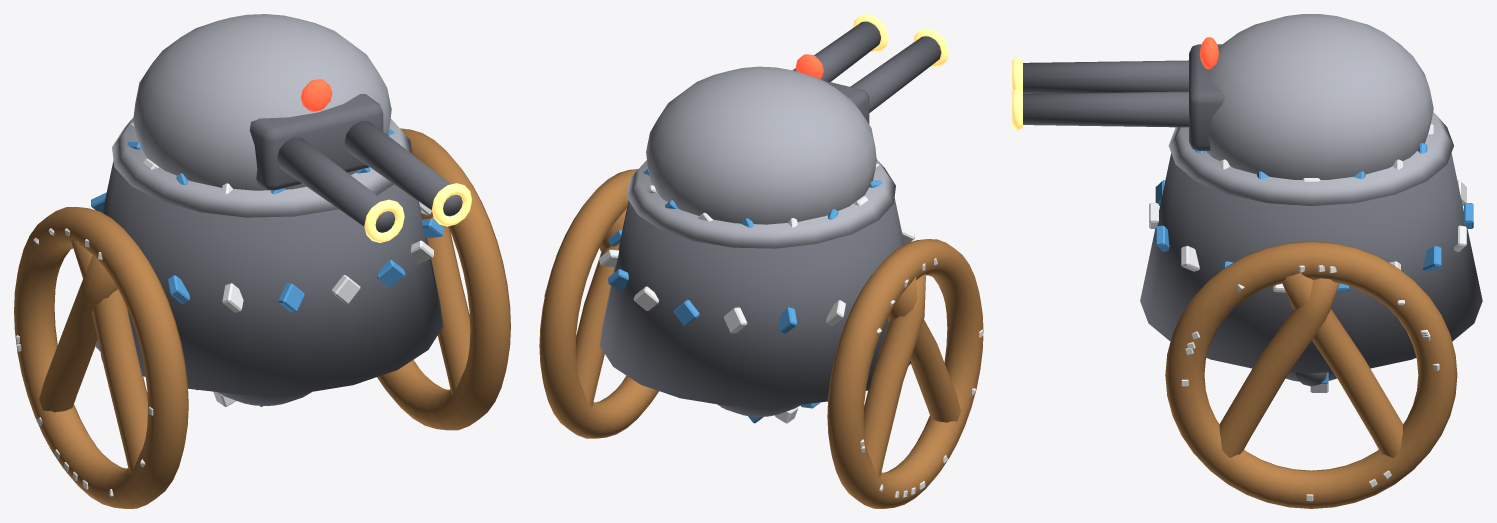
File: fortress.glb
3 views of the same model, side by side, from view 1: azimuth 30°, elevation 25°; view 2: azimuth 150°, elevation 25°; view 3: azimuth 270°, elevation 25° (orthographic). The views are drawn at different scales.
Parts seen in each view (by area): view 1: FZ_TurretBase, FZ_Jaeger, FZ_TurretHead; view 2: FZ_TurretBase, FZ_Jaeger, FZ_TurretHead; view 3: FZ_TurretHead, FZ_TurretBase, FZ_Jaeger.
Part boxes in pixels (x1=…): FZ_TurretBase: x1=91, y1=117, x2=444, y2=394; FZ_Jaeger: x1=14, y1=128, x2=510, y2=508; FZ_TurretHead: x1=127, y1=14, x2=471, y2=242; FZ_TurretBase: x1=599, y1=159, x2=914, y2=406; FZ_Jaeger: x1=539, y1=169, x2=983, y2=508; FZ_TurretHead: x1=643, y1=14, x2=948, y2=227; FZ_TurretHead: x1=1012, y1=14, x2=1433, y2=181; FZ_TurretBase: x1=1140, y1=112, x2=1482, y2=373; FZ_Jaeger: x1=1165, y1=241, x2=1457, y2=508.
Size of the model in its own units: 4.83 by 5.47 by 5.77.
